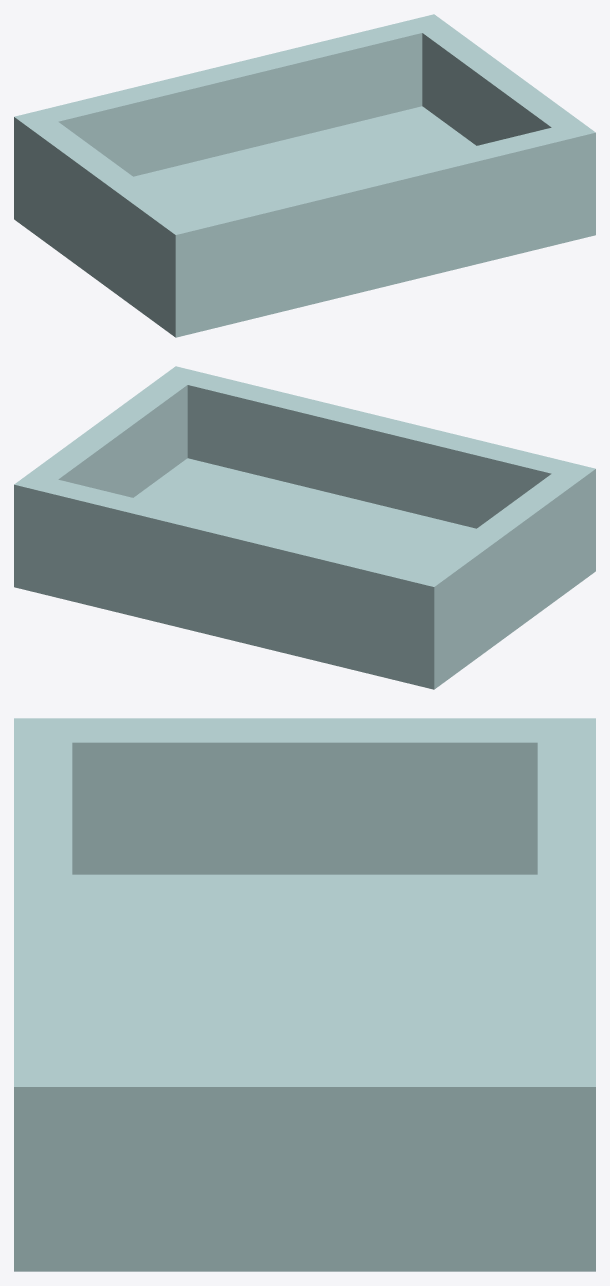
File: Balkon.fbx
The picture shows the model from 3 angles, top to bottom: view 1: azimuth 30°, elevation 25°; view 2: azimuth 150°, elevation 25°; view 3: azimuth 270°, elevation 25°; orthographic projection. The views are drawn at different scales.
Parts seen in each view (by area): view 1: Balkonwand1, Balkonboden, Balkonwand3, Balkonwand4, Balkonwand2; view 2: Balkonwand3, Balkonboden, Balkonwand1, Balkonwand4, Balkonwand2; view 3: Balkonboden, Balkonwand2, Balkonwand4, Balkonwand1, Balkonwand3.
Boxes of the visible parts, box(x1,y1,x2,y2) form: Balkonwand1: box(175, 127, 595, 308); Balkonboden: box(14, 106, 595, 337); Balkonwand3: box(15, 14, 433, 176); Balkonwand4: box(14, 116, 187, 307); Balkonwand2: box(422, 14, 595, 145); Balkonwand3: box(14, 479, 434, 660); Balkonboden: box(14, 458, 595, 689); Balkonwand1: box(176, 366, 594, 528); Balkonwand4: box(422, 468, 595, 659); Balkonwand2: box(14, 366, 187, 497); Balkonboden: box(14, 874, 595, 1271); Balkonwand2: box(14, 1062, 595, 1218); Balkonwand4: box(15, 718, 594, 874); Balkonwand1: box(14, 718, 72, 1086); Balkonwand3: box(537, 718, 595, 1086).
Size of the model in its own units: 3 by 0.7 by 2.
